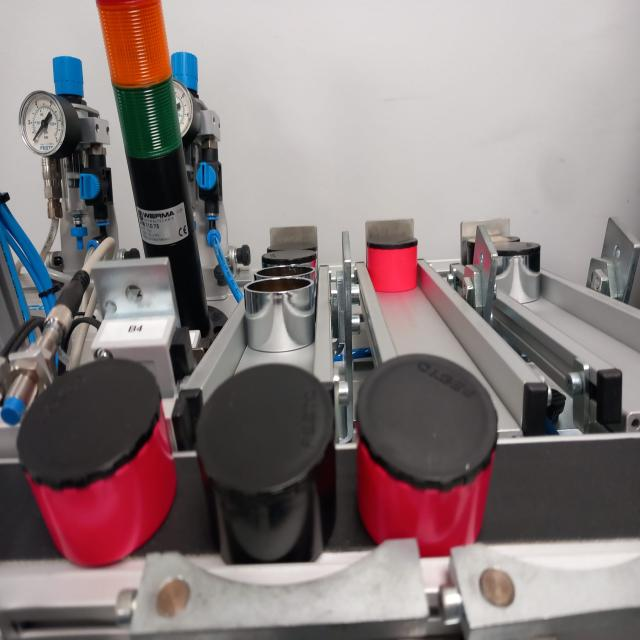NoLid: (244, 281, 315, 351), (258, 261, 320, 283)
Workpiece: (338, 351, 501, 544), (17, 368, 181, 554), (188, 364, 339, 559), (361, 230, 421, 301), (492, 242, 547, 307), (468, 238, 517, 260), (261, 251, 318, 266)
